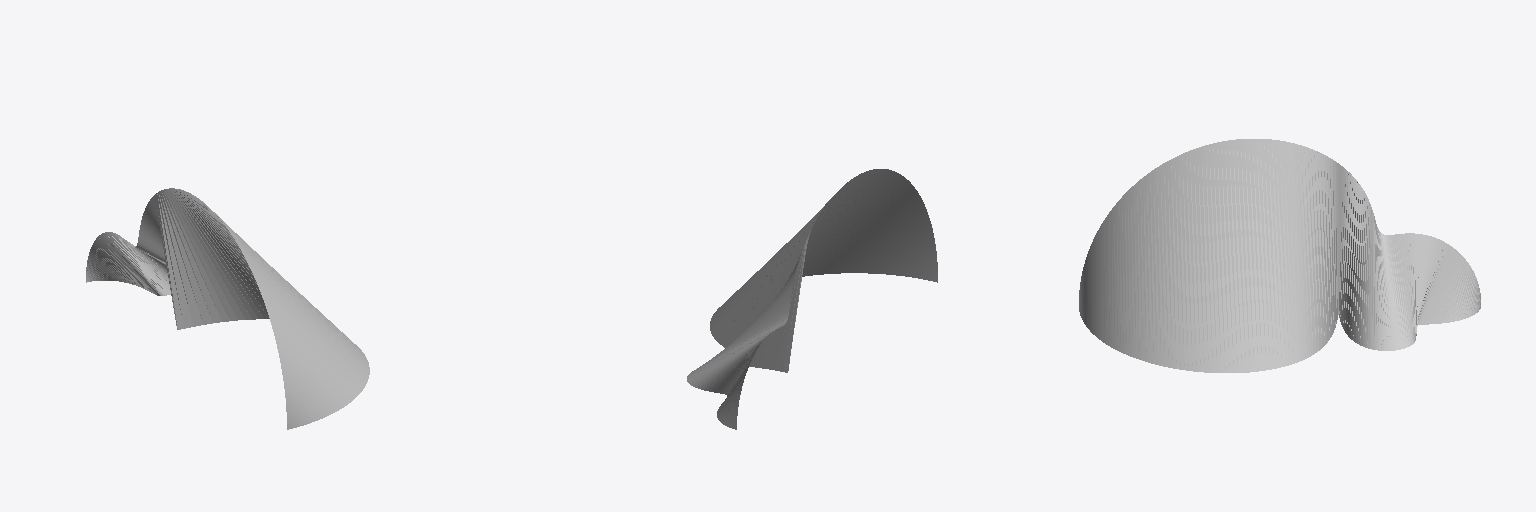
The picture shows the model from 3 angles: view 1: azimuth 30°, elevation 25°; view 2: azimuth 150°, elevation 25°; view 3: azimuth 270°, elevation 25°; orthographic projection.
Visible parts, largest first — view 1: ff_3d; view 2: ff_3d; view 3: ff_3d.
Boxes of the visible parts, box(x1,y1,x2,y2) form: ff_3d: box(86, 188, 369, 429); ff_3d: box(687, 169, 937, 429); ff_3d: box(1079, 139, 1480, 372).
Bounding box in the file's own units: 0.6193 × 0.7091 × 1.55.